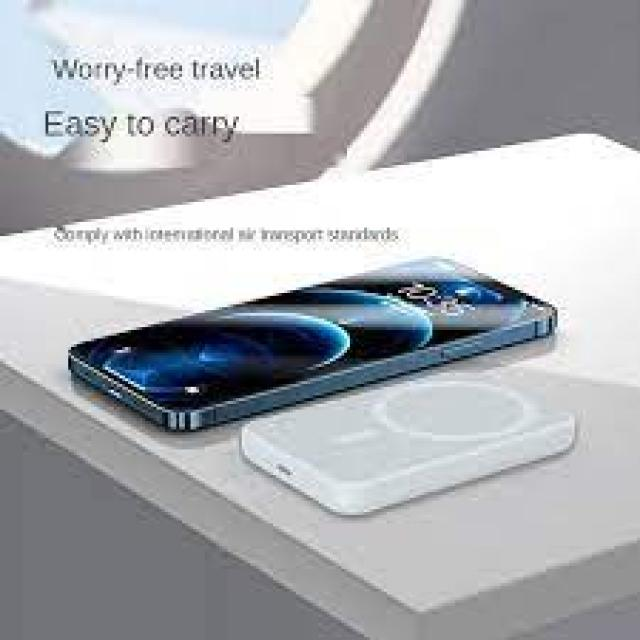power_bank: (241, 364, 580, 524)
